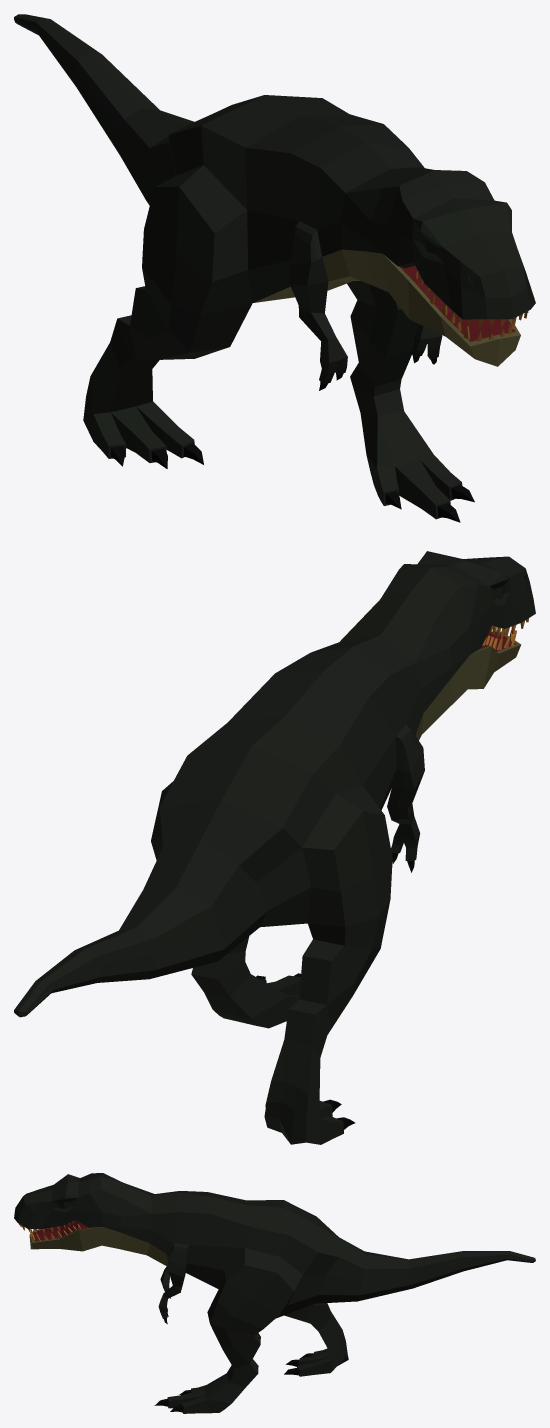
File: Trex_000033.obj
3 renders of one model, top to bottom at view 1: azimuth 30°, elevation 25°; view 2: azimuth 150°, elevation 25°; view 3: azimuth 270°, elevation 25°, orthographic. The views are drawn at different scales.
Visible parts, largest first — view 1: Trex_Cylinder; view 2: Trex_Cylinder; view 3: Trex_Cylinder.
Part boxes in pixels (x1=…): Trex_Cylinder: x1=14, y1=14, x2=535, y2=522; Trex_Cylinder: x1=14, y1=551, x2=535, y2=1144; Trex_Cylinder: x1=14, y1=1173, x2=535, y2=1413.
Bounding box in the file's own units: 8.15 × 13.93 × 31.08.
